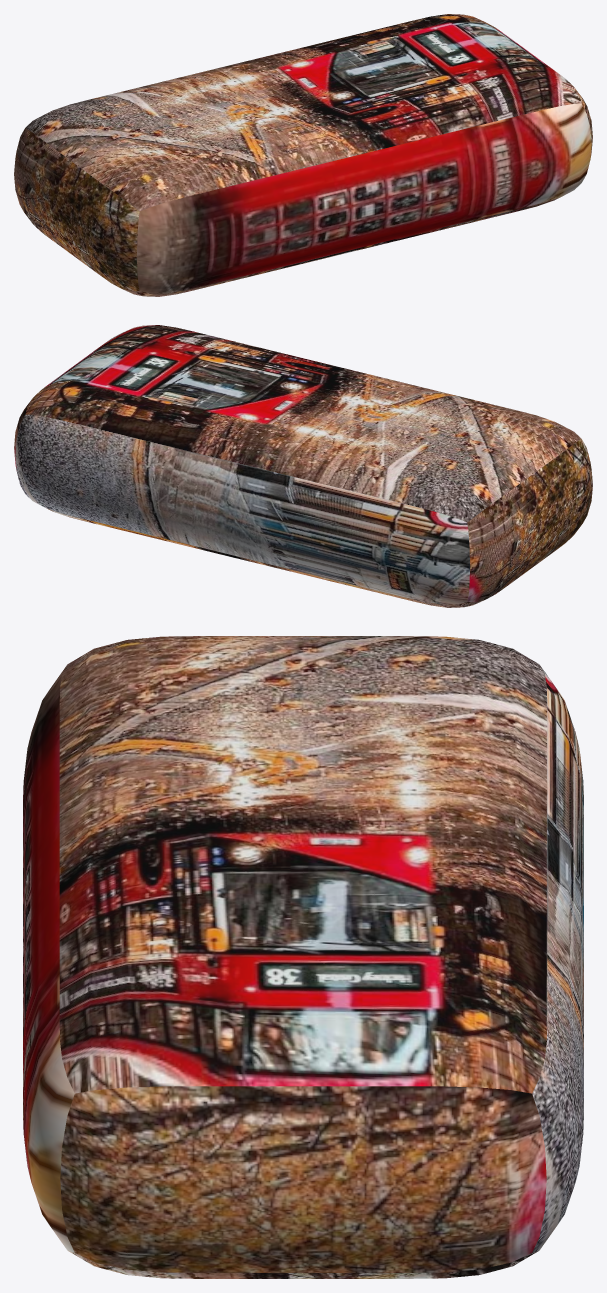
File: materials.gltf
3 views of the same model, one above another, from view 1: azimuth 30°, elevation 25°; view 2: azimuth 150°, elevation 25°; view 3: azimuth 270°, elevation 25° (orthographic). The views are drawn at different scales.
Visible parts, largest first — view 1: Cube; view 2: Cube; view 3: Cube.
Part boxes in pixels (<box>): Cube: <box>14,14,592,296</box>; Cube: <box>14,325,592,607</box>; Cube: <box>23,636,583,1278</box>.
Size of the model in its own units: 2 by 0.5 by 0.9955.
Materials: 1 (1 with a texture image).
